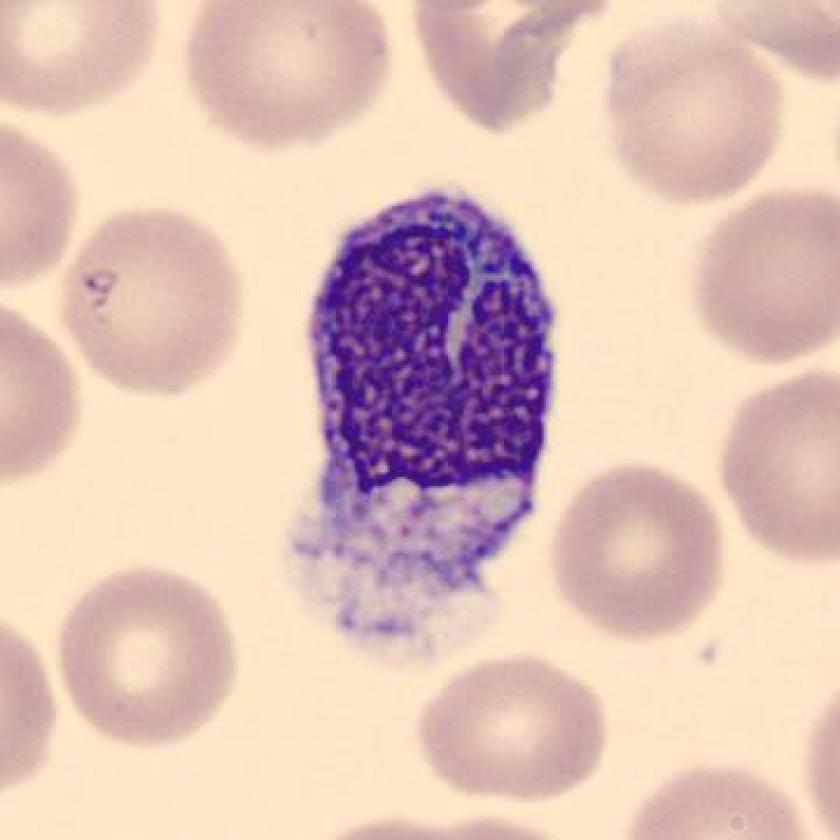monocyte: (269, 175, 589, 679)
